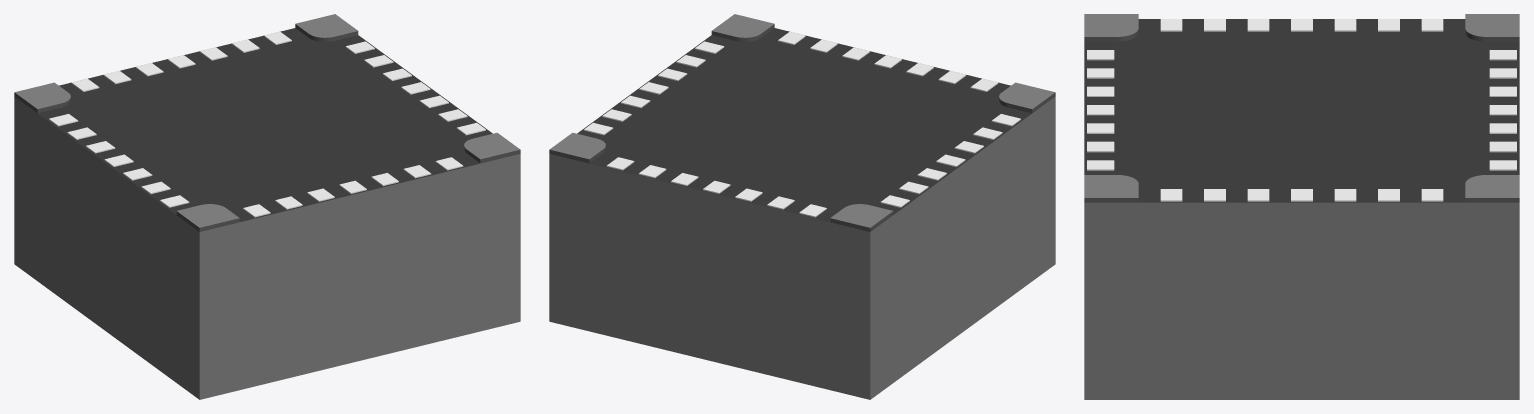
File: IntersectionStreet.glb
The picture shows the model from 3 angles, left to right: view 1: azimuth 30°, elevation 25°; view 2: azimuth 150°, elevation 25°; view 3: azimuth 270°, elevation 25°; orthographic projection. The views are drawn at different scales.
Parts seen in each view (by area): view 1: Cube, Cube.009, Cube.002, Cube.006, Cube.007, Cube.008, Cube.003, Cube.004, Cube.005, Cube.001; view 2: Cube, Cube.009, Cube.002, Cube.006, Cube.008, Cube.007, Cube.001, Cube.005, Cube.004, Cube.003; view 3: Cube, Cube.009, Cube.007, Cube.008, Cube.002, Cube.006, Cube.004, Cube.005, Cube.003, Cube.001.
Part boxes in pixels (<box>): Cube: <box>14,96,520,399</box>; Cube.009: <box>38,28,492,221</box>; Cube.002: <box>49,114,189,207</box>; Cube.006: <box>345,41,485,135</box>; Cube.007: <box>243,157,463,217</box>; Cube.008: <box>71,32,291,91</box>; Cube.003: <box>176,204,239,231</box>; Cube.004: <box>295,14,358,41</box>; Cube.005: <box>464,132,520,163</box>; Cube.001: <box>14,82,70,113</box>; Cube: <box>549,96,1055,399</box>; Cube.009: <box>577,28,1031,221</box>; Cube.002: <box>880,114,1020,207</box>; Cube.006: <box>584,41,724,135</box>; Cube.008: <box>606,157,826,217</box>; Cube.007: <box>778,32,998,91</box>; Cube.001: <box>830,204,893,231</box>; Cube.005: <box>711,14,774,41</box>; Cube.004: <box>549,132,605,163</box>; Cube.003: <box>999,82,1055,113</box>; Cube: <box>1084,202,1519,399</box>; Cube.009: <box>1084,19,1519,202</box>; Cube.007: <box>1087,50,1114,170</box>; Cube.008: <box>1489,50,1516,170</box>; Cube.002: <box>1160,19,1443,31</box>; Cube.006: <box>1160,189,1443,201</box>; Cube.004: <box>1465,175,1519,202</box>; Cube.005: <box>1084,175,1138,202</box>; Cube.003: <box>1084,14,1138,41</box>; Cube.001: <box>1465,14,1519,41</box>.
Size of the model in its own units: 16 by 8.2 by 16.
Materials: 2 (2 with a texture image).
